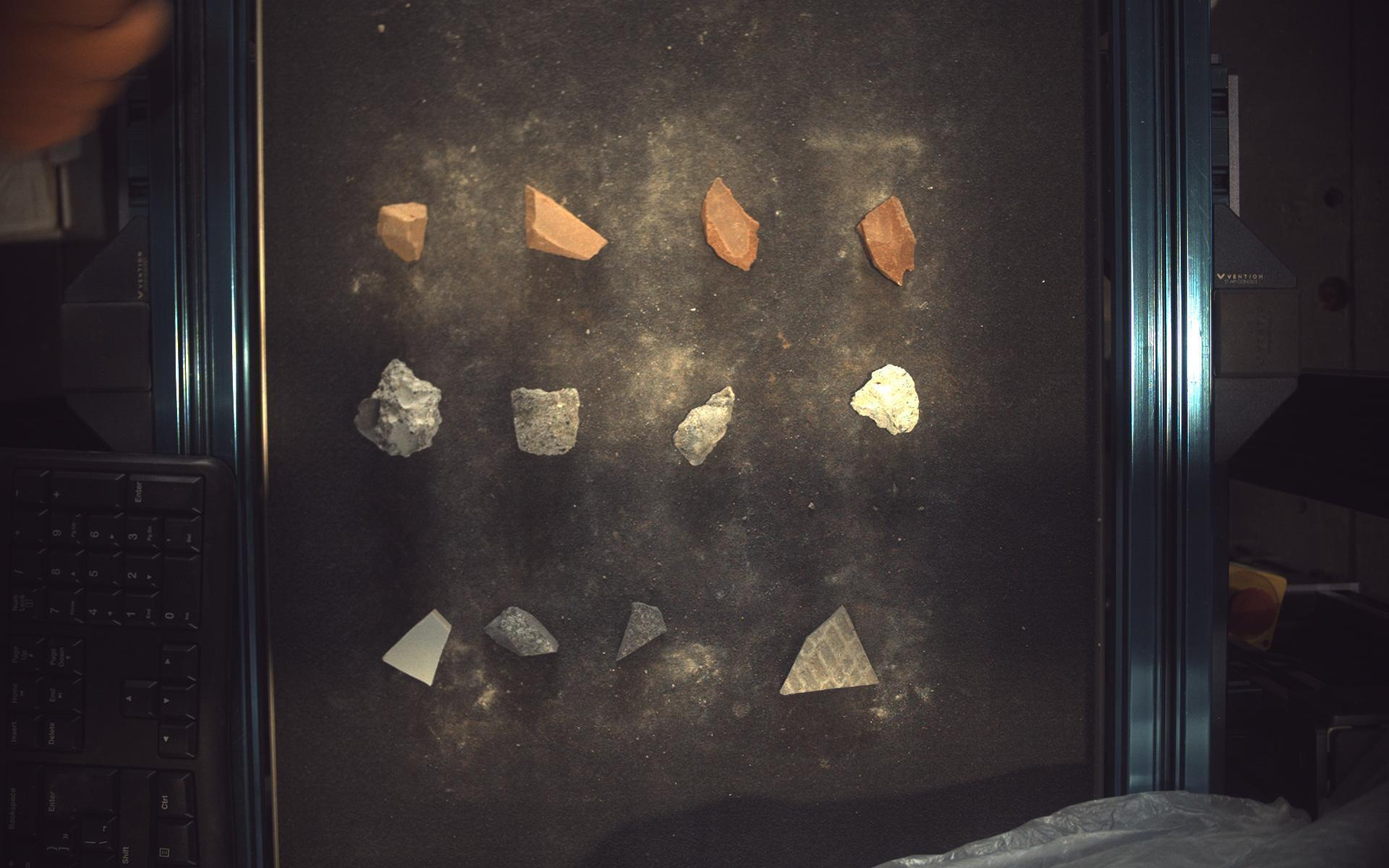brick: (527, 184, 608, 260), (702, 176, 761, 271), (859, 195, 917, 285), (376, 202, 428, 262)
concrete: (354, 359, 442, 457), (852, 364, 921, 435), (676, 386, 736, 466), (511, 388, 580, 456)
tile: (781, 607, 880, 697), (382, 610, 451, 686), (485, 607, 559, 658), (617, 603, 667, 663)
